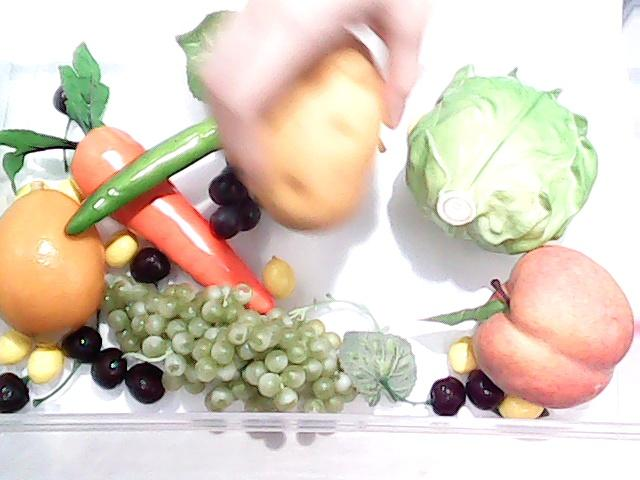cabbage: (401, 64, 603, 257)
carrot: (1, 42, 276, 314)
grape: (98, 275, 416, 417), (202, 166, 268, 238)
lemon: (0, 166, 111, 354)
peach: (469, 244, 636, 412)
pepper: (60, 95, 388, 241)
potato: (248, 42, 388, 236)
